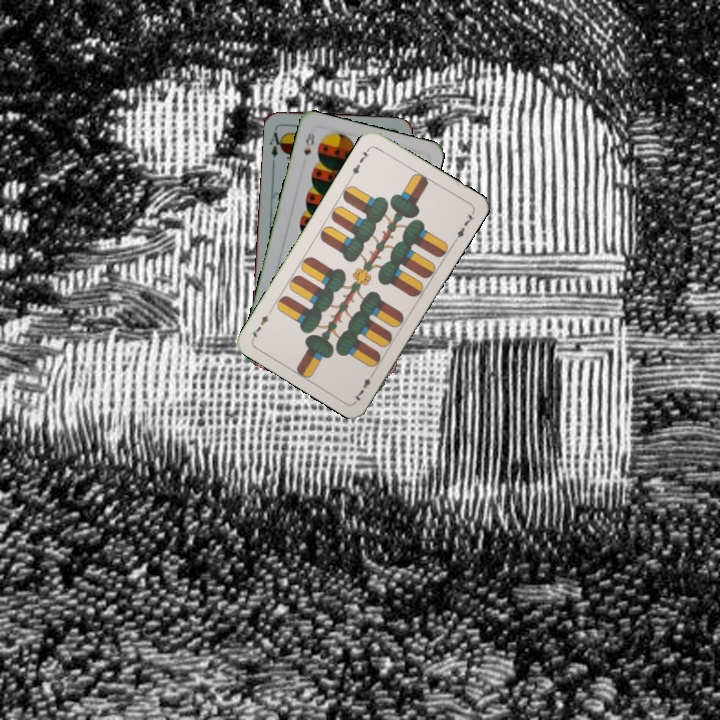E7: (349, 368, 377, 404), (347, 144, 373, 180)
EA: (266, 128, 286, 165)
S8: (300, 128, 318, 157)
